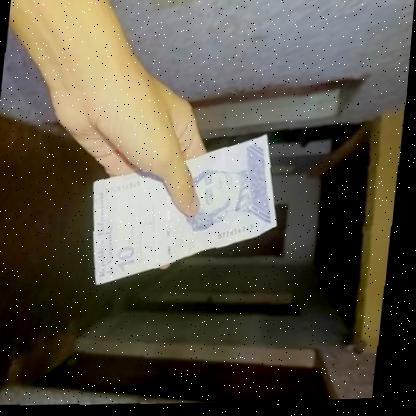ten-front-vef: (88, 133, 289, 290)
